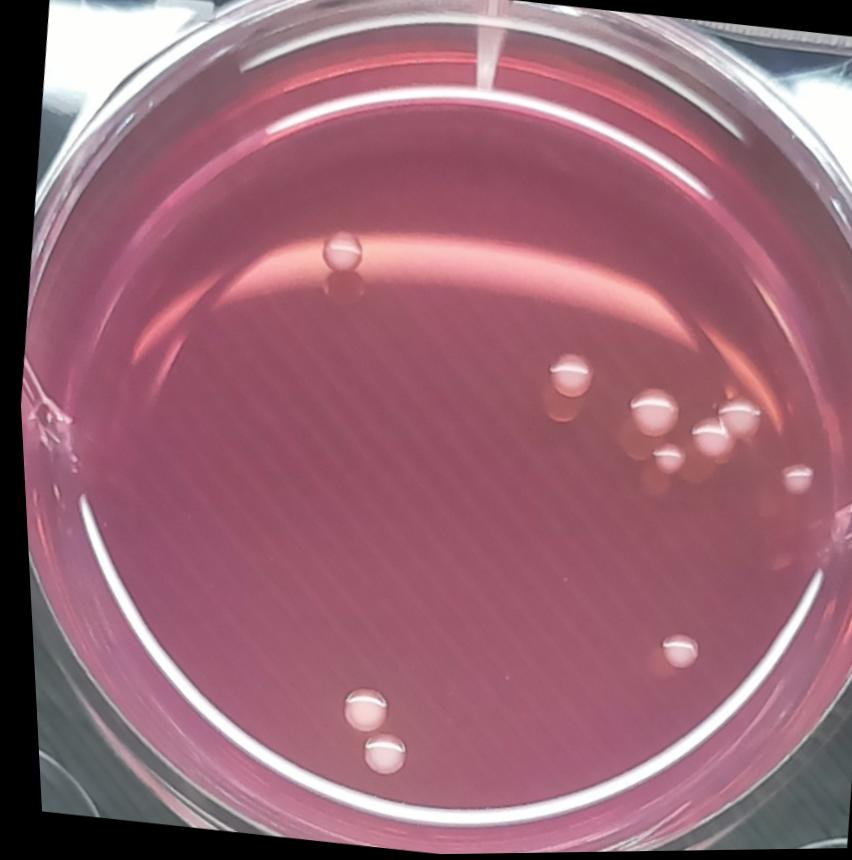bcereus: (614, 380, 680, 447), (531, 347, 595, 414), (326, 676, 389, 741), (308, 219, 367, 283), (347, 727, 407, 786), (706, 391, 761, 453), (644, 627, 701, 682), (682, 416, 735, 474), (766, 458, 814, 506), (640, 440, 684, 482)
